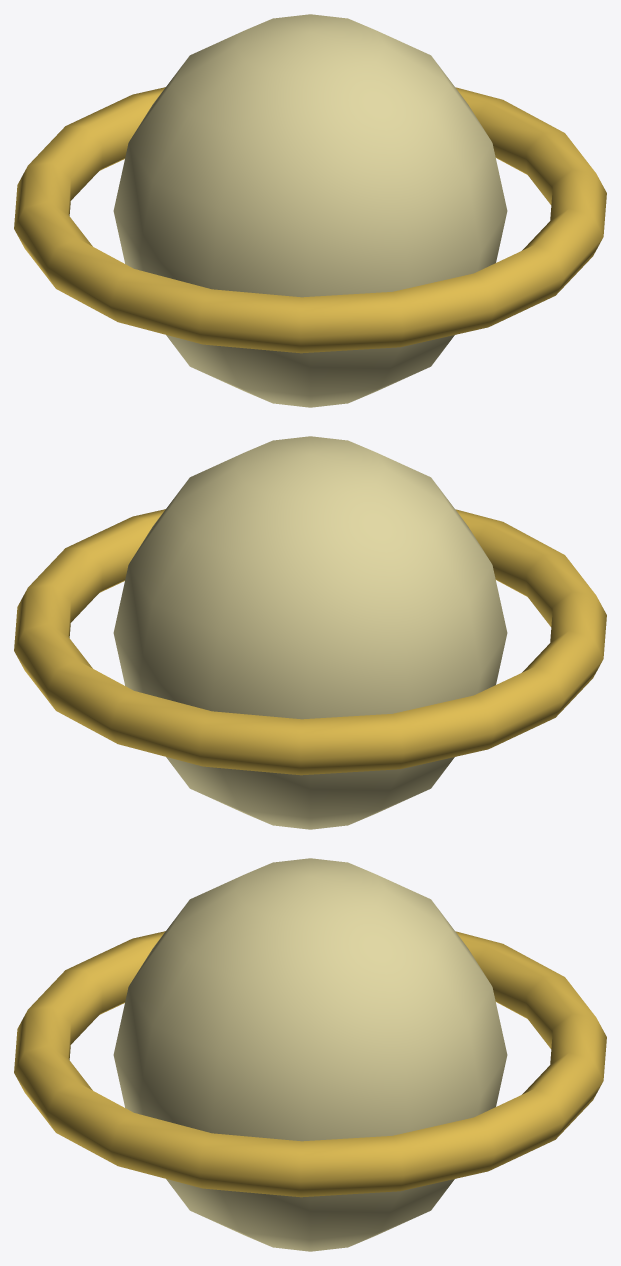
The model's file is skill.glb.
3 views of the same model, one above another, from view 1: azimuth 30°, elevation 25°; view 2: azimuth 150°, elevation 25°; view 3: azimuth 270°, elevation 25° (orthographic).
Parts seen in each view (by area): view 1: skill_core, skill_ring; view 2: skill_core, skill_ring; view 3: skill_core, skill_ring.
Part boxes in pixels (box(x1,y1,x2,y2)): skill_core: box(113, 14, 507, 407); skill_ring: box(14, 87, 606, 353); skill_core: box(113, 436, 507, 829); skill_ring: box(14, 509, 606, 775); skill_core: box(113, 858, 507, 1251); skill_ring: box(14, 931, 606, 1197).
Size of the model in its own units: 0.7296 by 0.48 by 0.7227.
